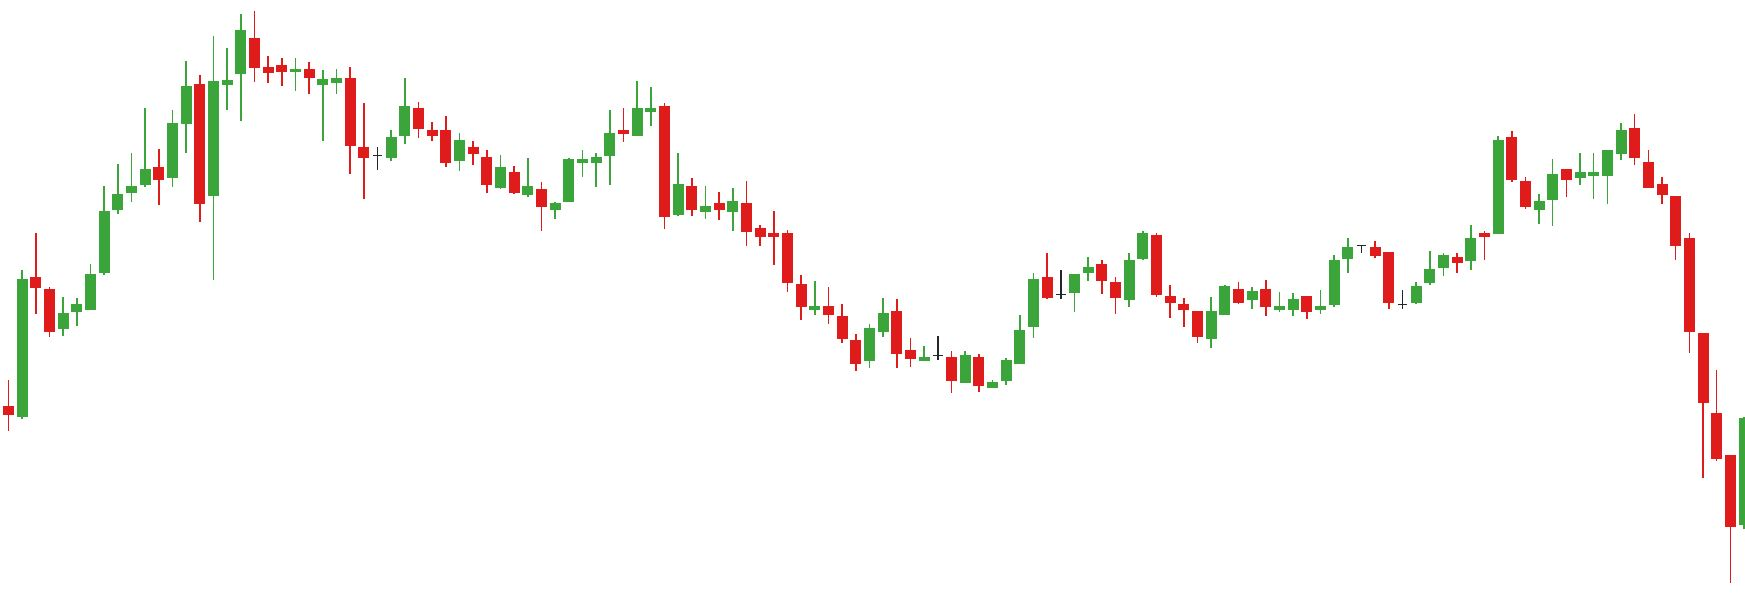sell: (1491, 119, 1642, 201)
